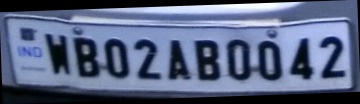character: (132, 36, 161, 79), (319, 35, 347, 79), (43, 31, 70, 75), (194, 38, 221, 82), (289, 35, 314, 81), (72, 36, 99, 78), (256, 39, 282, 80), (226, 37, 250, 81), (104, 37, 129, 78), (168, 37, 190, 80)
